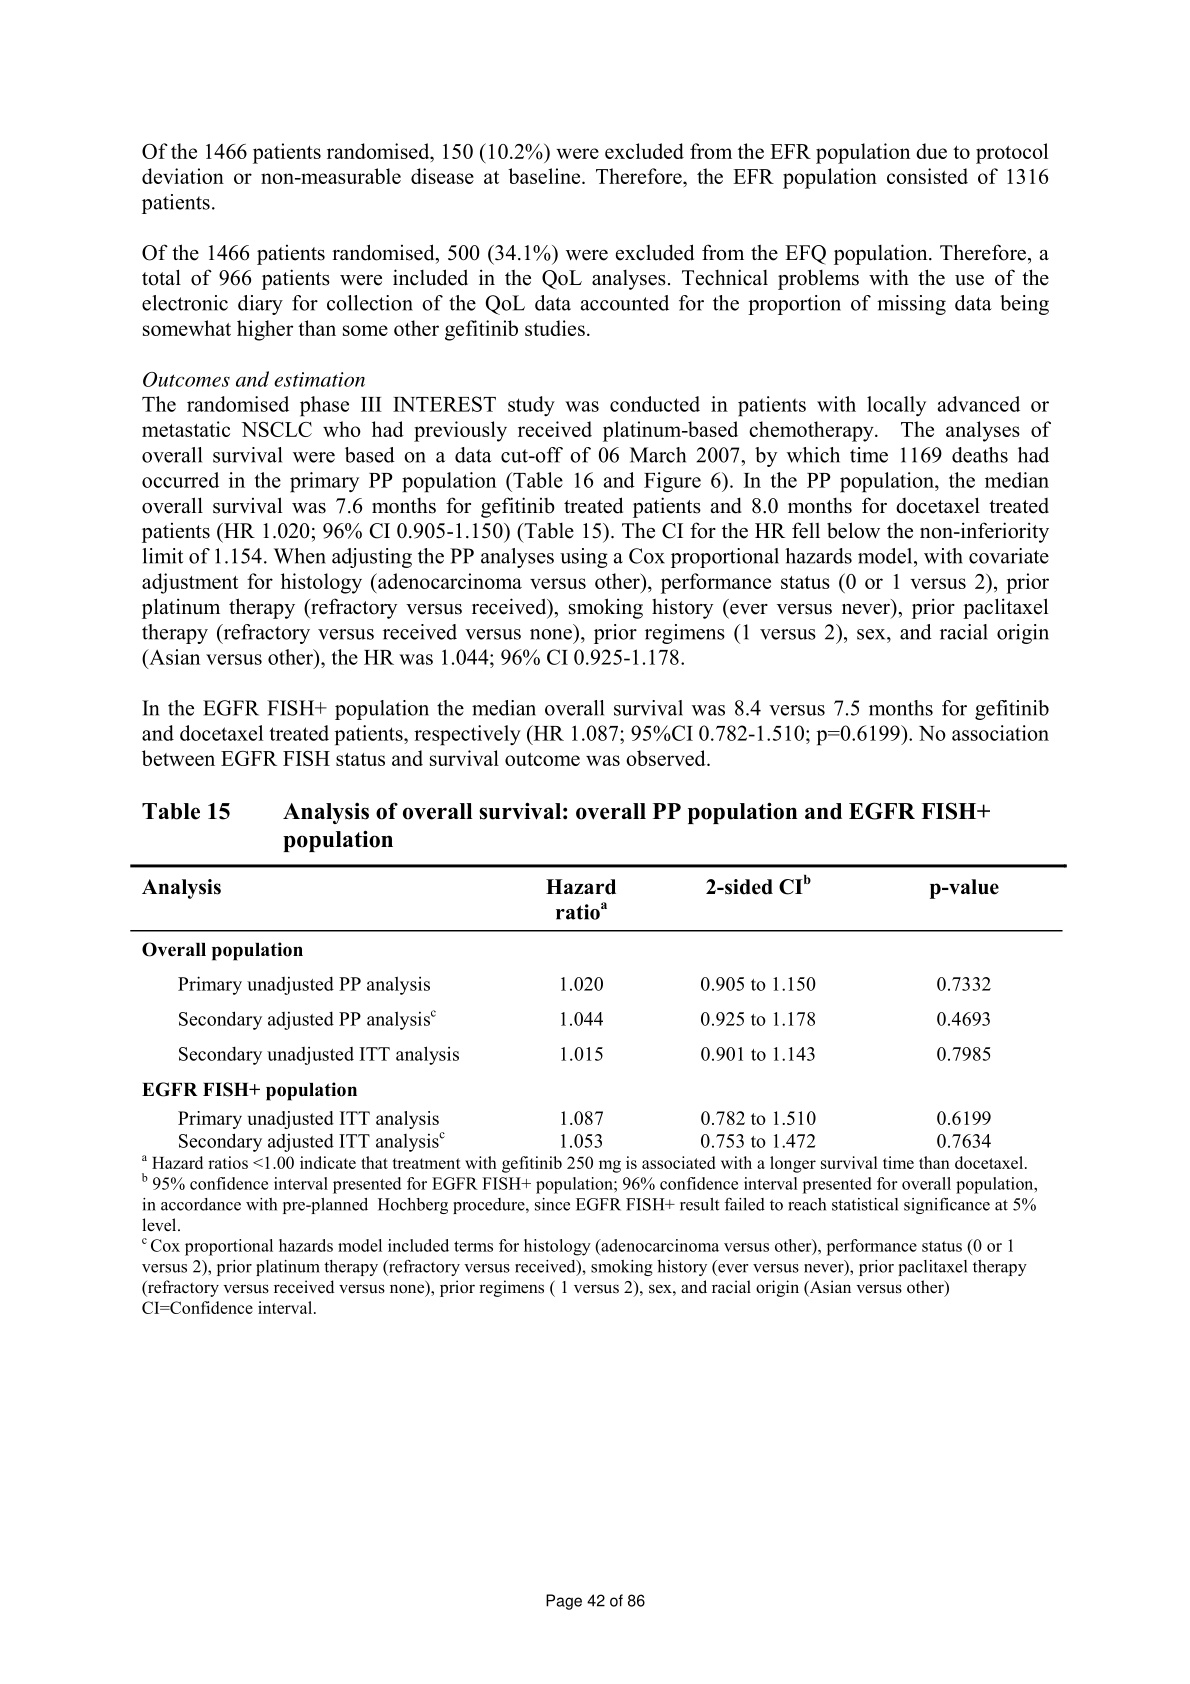partial_lined_merged_cells: (130, 864, 1066, 1154)
